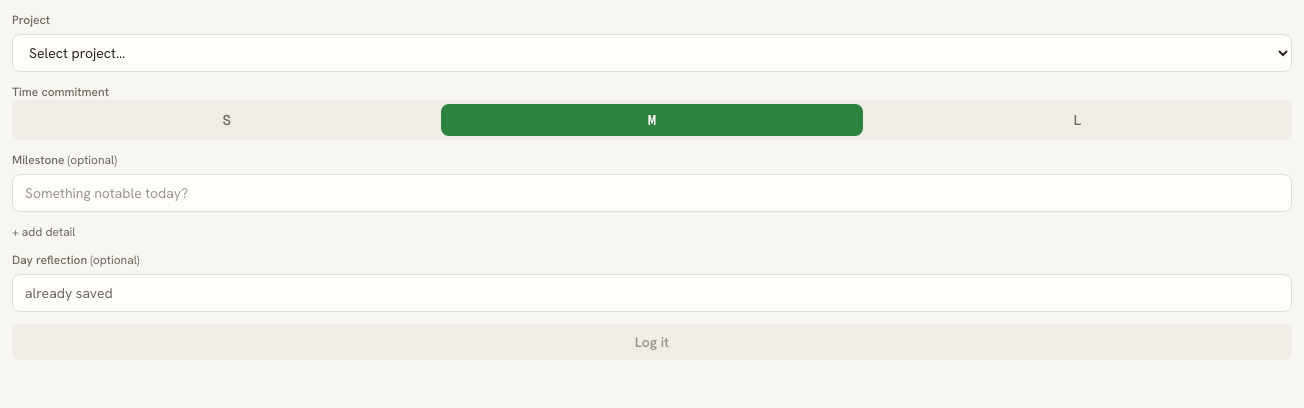
quick add › never blocks logging: an untouched reflection is not re-saved
Step 1. Select "Work" in the dropdown labelled "Project" → coordinates (652, 53), box [12, 34, 1292, 72]
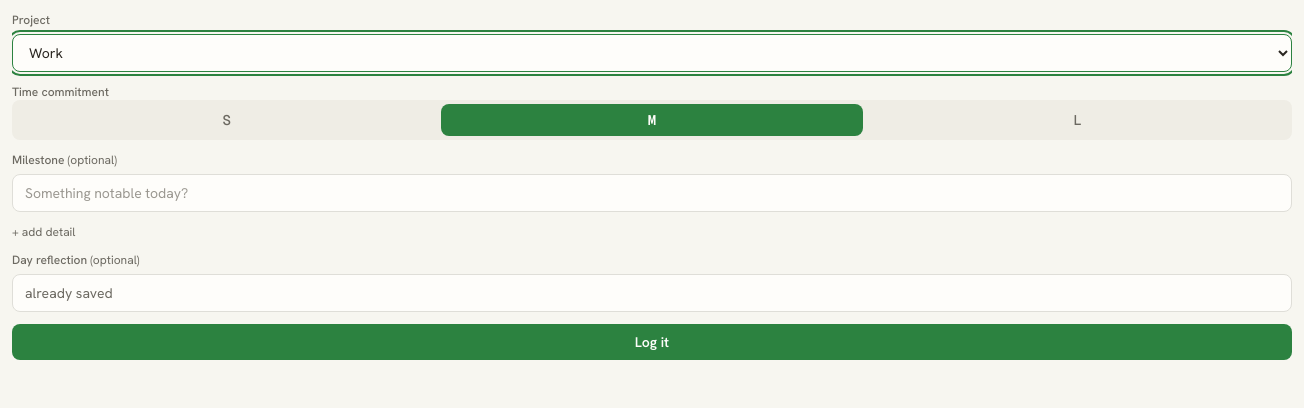
Step 2. Click the button named "Small" → coordinates (227, 120), box [16, 104, 437, 136]
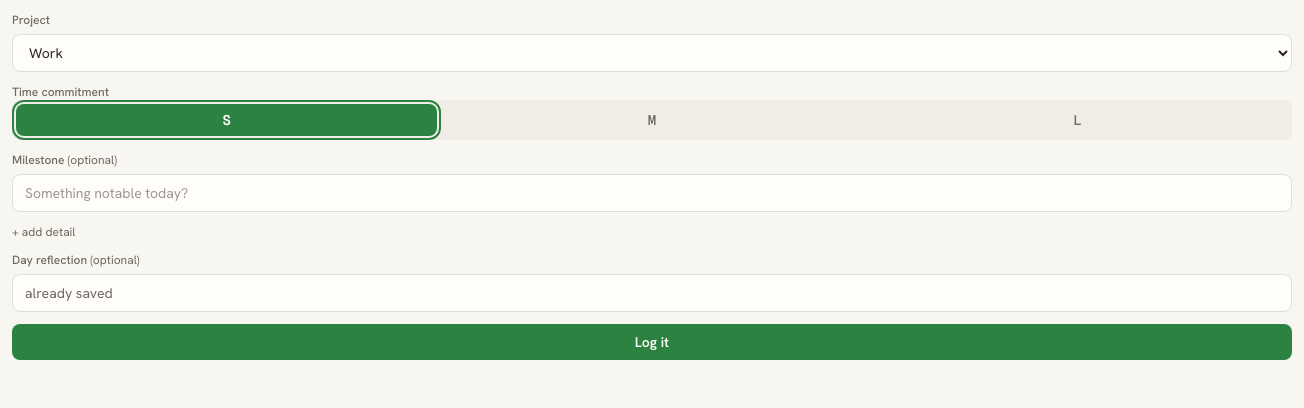
Step 3. Click the button "Log it" → coordinates (652, 342), box [12, 324, 1292, 360]
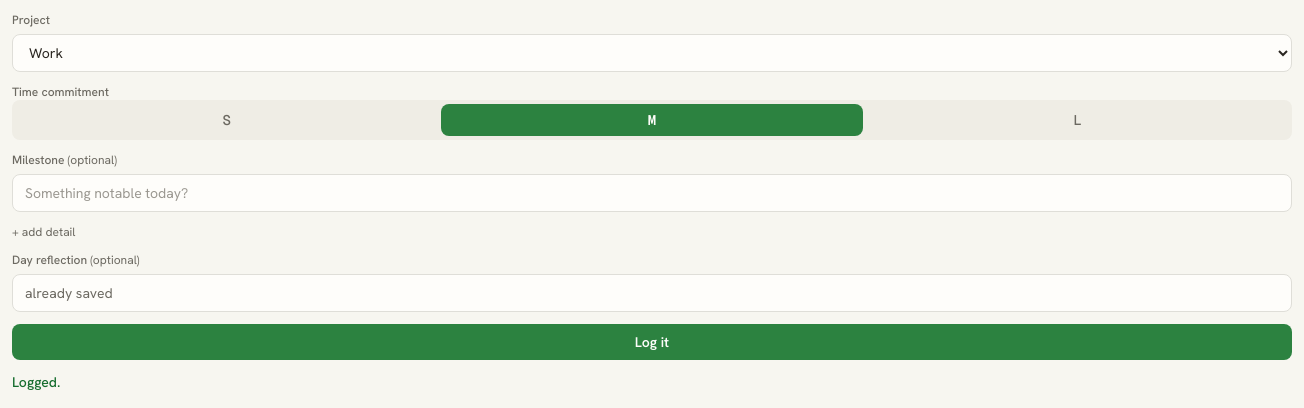
Check: the text "Logged." is shown, box [12, 373, 60, 391]
